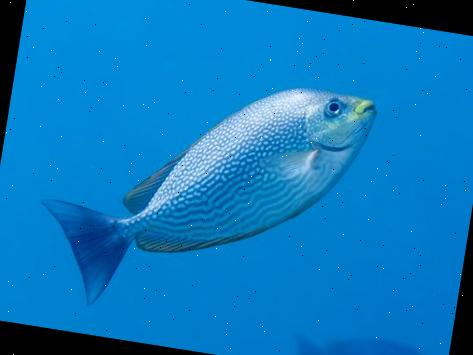fish: (26, 48, 378, 346)
